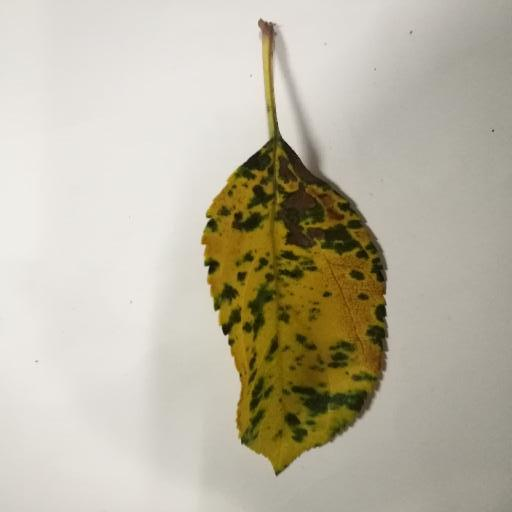Brown_Spot: (273, 156, 360, 264)
